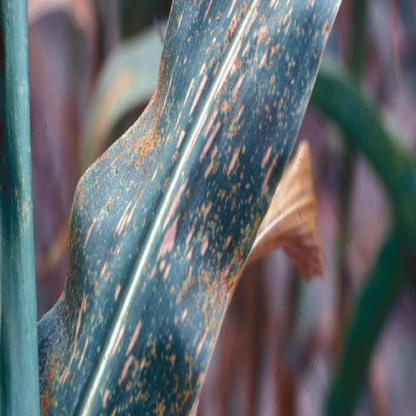Corn rust leaf: (36, 1, 354, 415)
